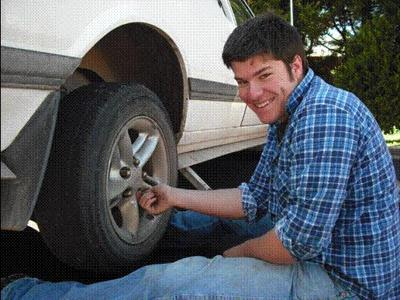person: (1, 13, 400, 300)
